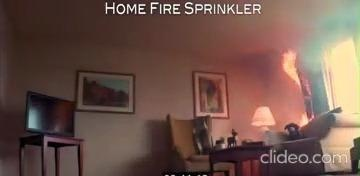fire: (263, 36, 308, 94)
